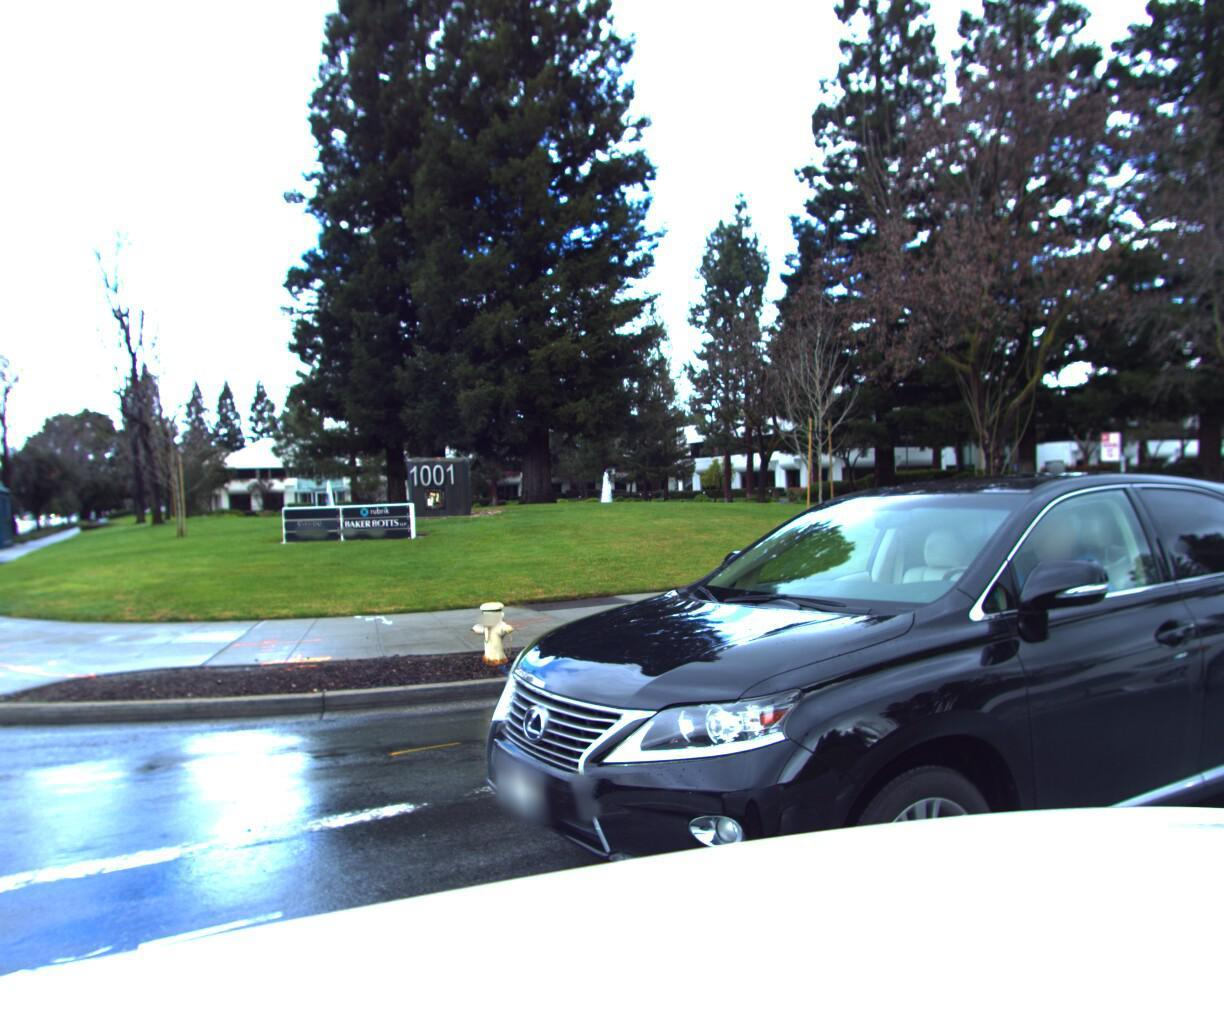car: (403, 436, 1224, 1024)
